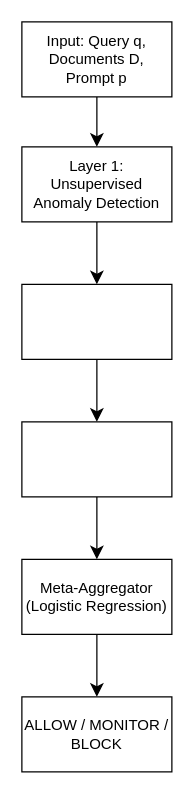
This 194x794 diagram has some shape labels left out. The centre of each missing label's shape, as x and y in pixels:
Layer 2: Multilingual Intent Classifier: the point at 96,321
Layer 3: Semantic Behavioural Monitor: the point at 96,459
